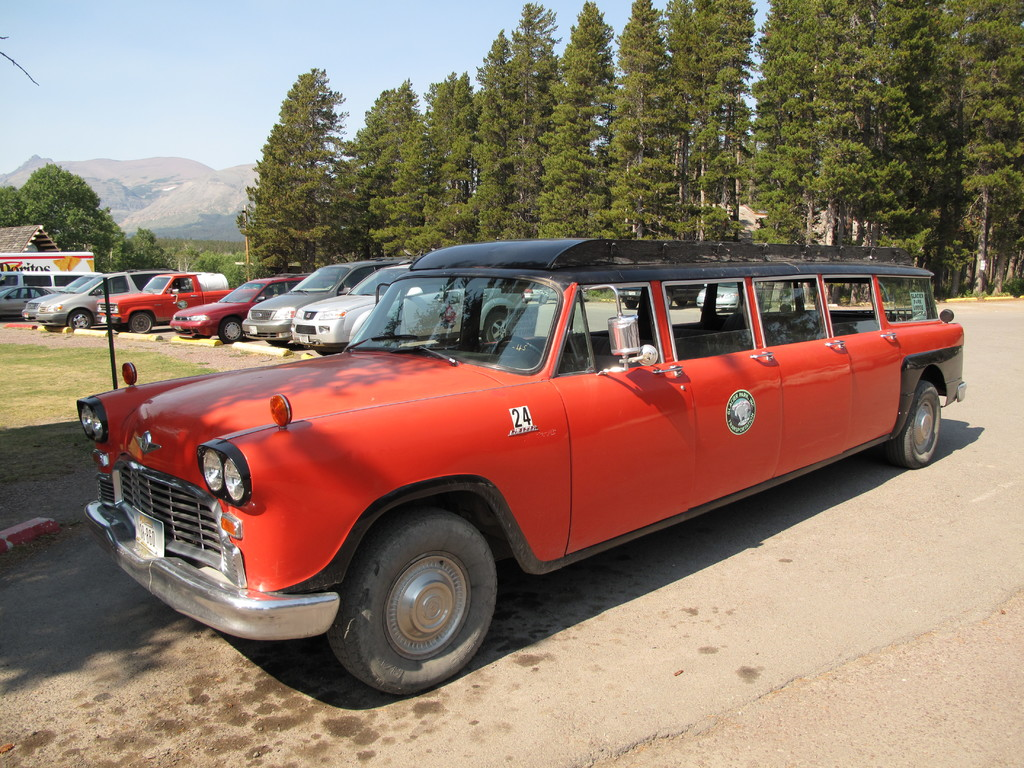Car: (77, 236, 966, 698), (290, 263, 545, 355), (238, 259, 400, 345), (84, 270, 245, 332), (168, 277, 302, 344), (20, 270, 162, 329), (0, 279, 49, 318)
